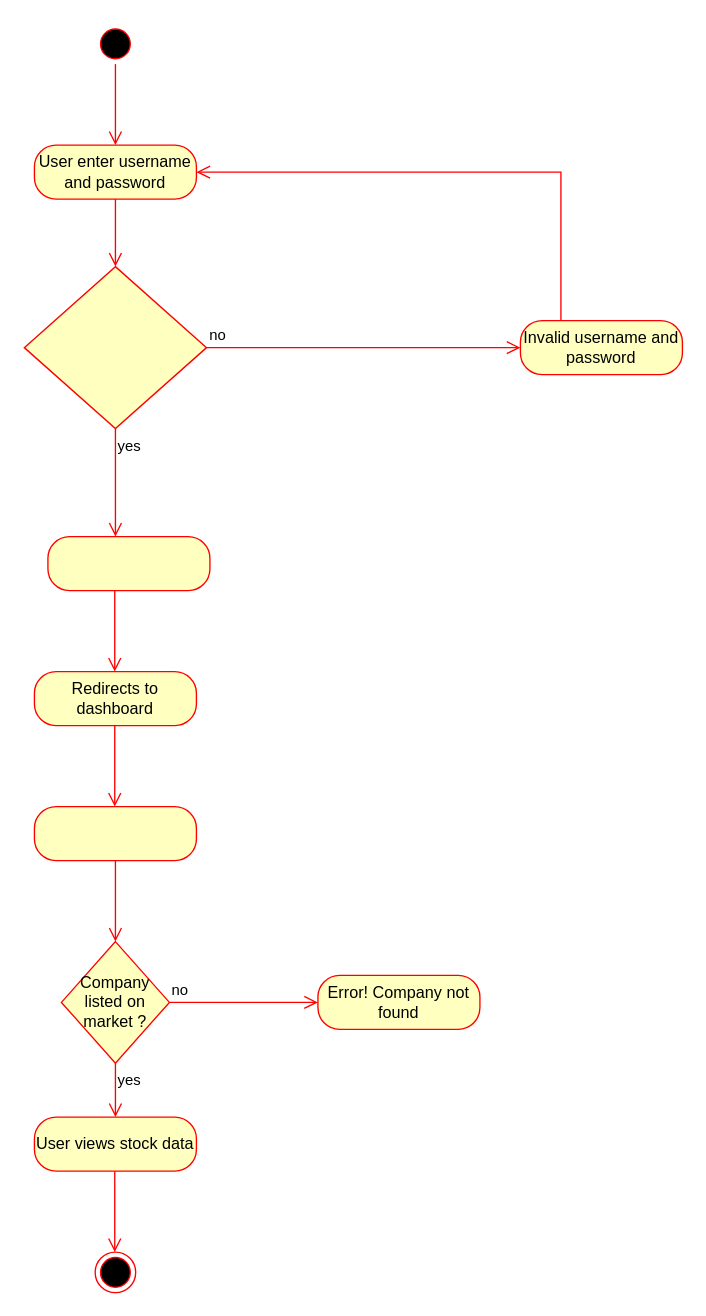
Some shapes in this 706 by 1316 pixel diagram are drawn without their labels. Here are the shapes that lost their labels. From the top down, the centre of each, then its label:
the point at 115,347: Valid username and password ?
the point at 128,563: user logs in succesfully
the point at 114,833: User searches the company name
